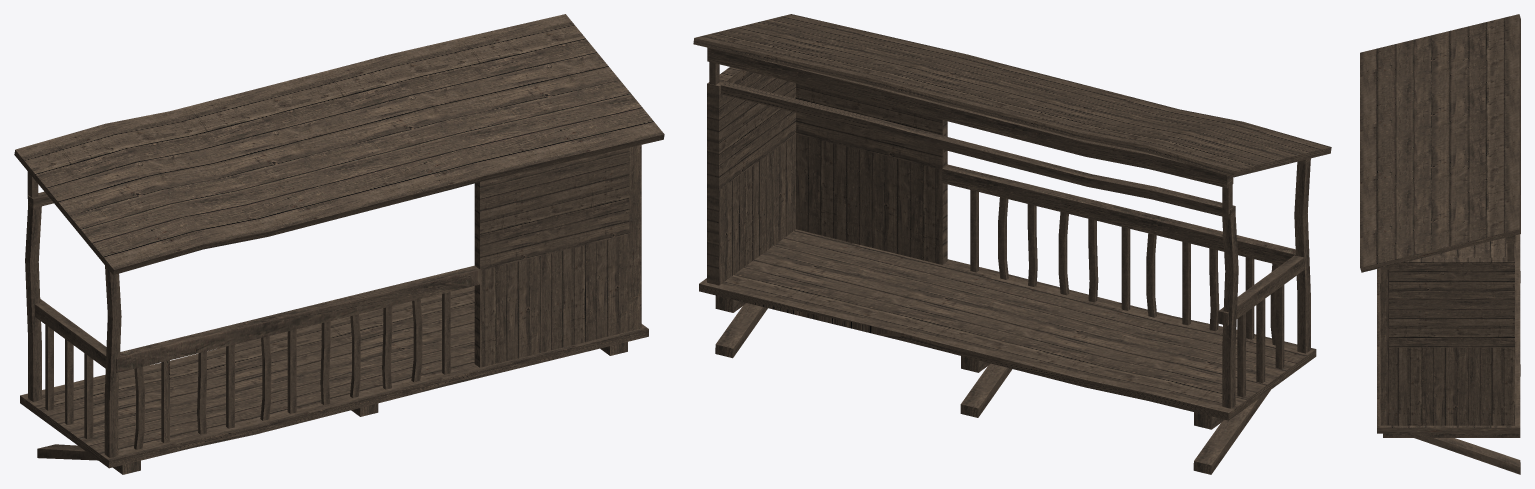
The model's file is f1_balcony01.dae.
3 renders of one model, left to right at view 1: azimuth 30°, elevation 25°; view 2: azimuth 150°, elevation 25°; view 3: azimuth 270°, elevation 25°, orthographic. The views are drawn at different scales.
Parts seen in each view (by area): view 1: f1_balcony01_Layer1; view 2: f1_balcony01_Layer1; view 3: f1_balcony01_Layer1.
Part boxes in pixels (x1=…): f1_balcony01_Layer1: x1=14, y1=14, x2=664, y2=474; f1_balcony01_Layer1: x1=693, y1=14, x2=1331, y2=474; f1_balcony01_Layer1: x1=1360, y1=14, x2=1520, y2=474.
Size of the model in its own units: 8.93 by 4.93 by 2.8.
